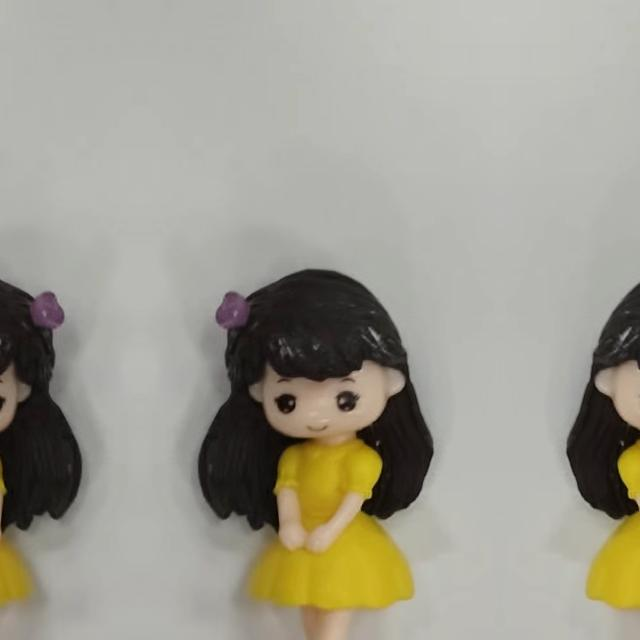woman dress: (266, 426, 399, 640), (600, 426, 640, 639), (0, 426, 13, 639)
woman head: (200, 249, 448, 449), (552, 249, 640, 449), (0, 249, 80, 449)
